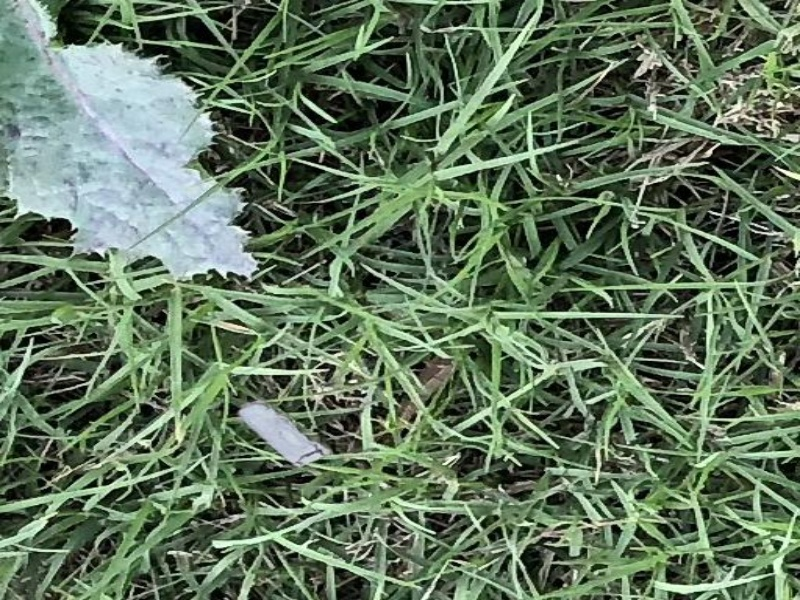cig: (233, 400, 330, 470)
